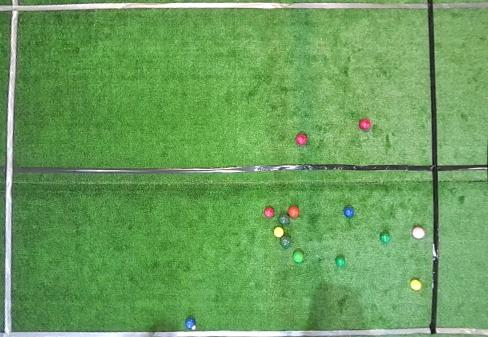blue: (343, 206, 354, 218), (185, 318, 195, 329)
green: (293, 251, 304, 263), (278, 214, 289, 225), (335, 257, 346, 267), (380, 233, 390, 243), (280, 237, 290, 247)
red: (412, 227, 425, 239), (295, 134, 307, 146), (288, 206, 299, 218), (359, 119, 371, 130), (264, 207, 275, 218)
vline: (427, 0, 487, 336), (0, 0, 20, 336)
white: (192, 325, 196, 330)
yellow: (410, 279, 422, 290), (273, 227, 284, 238)
